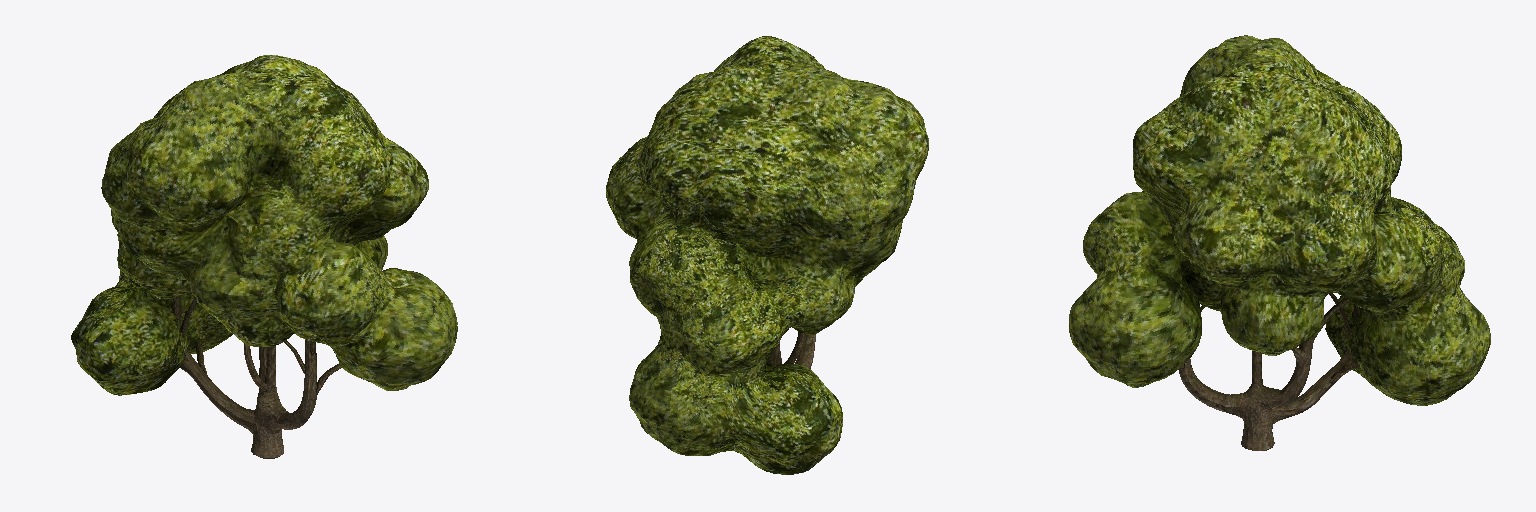
3 views of the same model, side by side, from view 1: azimuth 30°, elevation 25°; view 2: azimuth 150°, elevation 25°; view 3: azimuth 270°, elevation 25° (orthographic).
Parts seen in each view (by area): view 1: 10445_Oak_tree_v1_SG.002; view 2: 10445_Oak_tree_v1_SG.002; view 3: 10445_Oak_tree_v1_SG.002.
Boxes of the visible parts, x1=… form: 10445_Oak_tree_v1_SG.002: x1=71, y1=55, x2=457, y2=458; 10445_Oak_tree_v1_SG.002: x1=606, y1=36, x2=928, y2=474; 10445_Oak_tree_v1_SG.002: x1=1069, y1=35, x2=1490, y2=450.
Bounding box in the file's own units: 0.1589 × 0.2032 × 0.205.
1 materials, 1 textured.